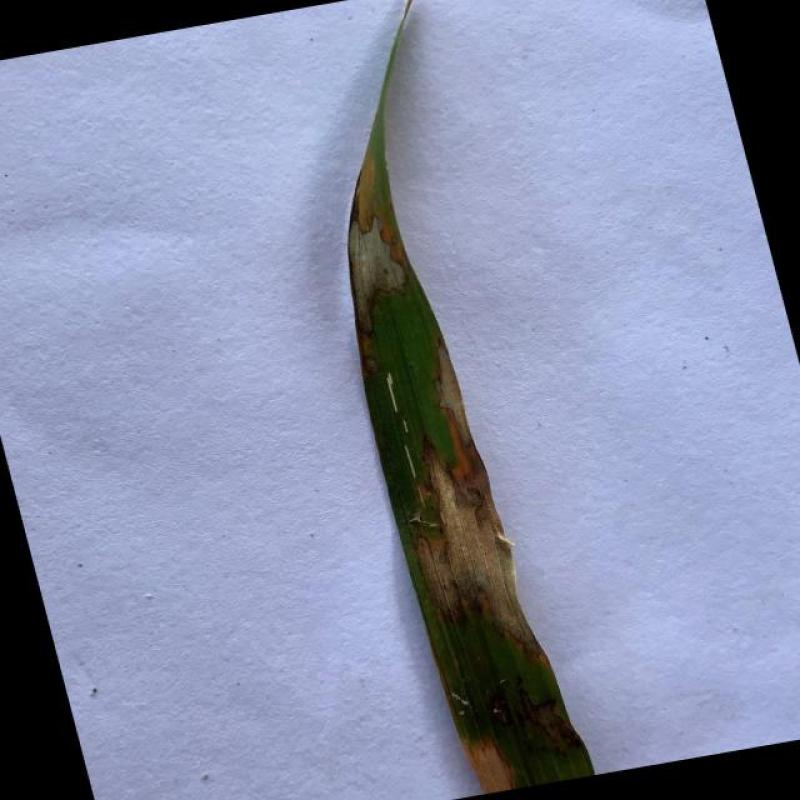Bacterial_Leaf_Blight: (414, 341, 551, 662), (344, 152, 416, 324), (461, 736, 520, 798)
